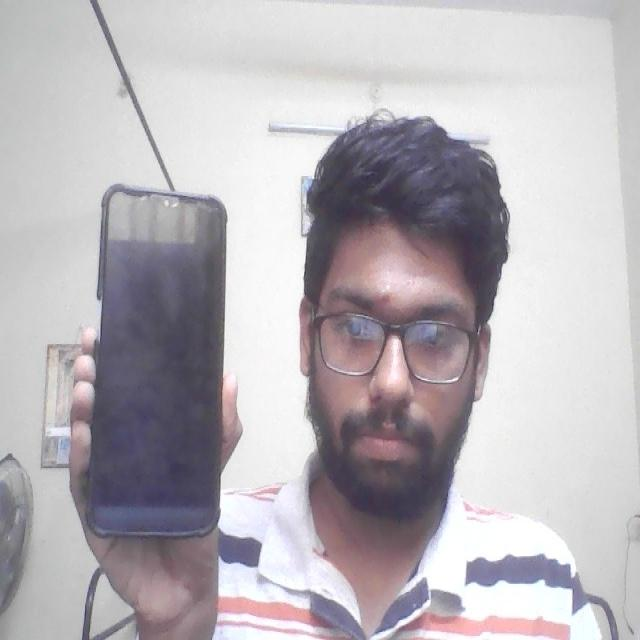Mobile: (80, 181, 235, 545)
